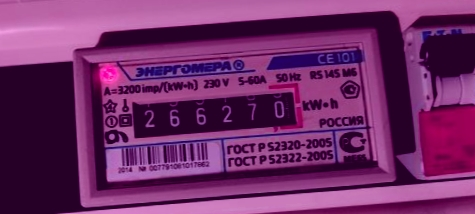0: (270, 100, 284, 121)
2: (139, 110, 156, 131), (217, 105, 232, 126)
6: (165, 108, 180, 130), (192, 108, 207, 128)
7: (243, 103, 256, 123)
screen: (120, 82, 307, 147)
